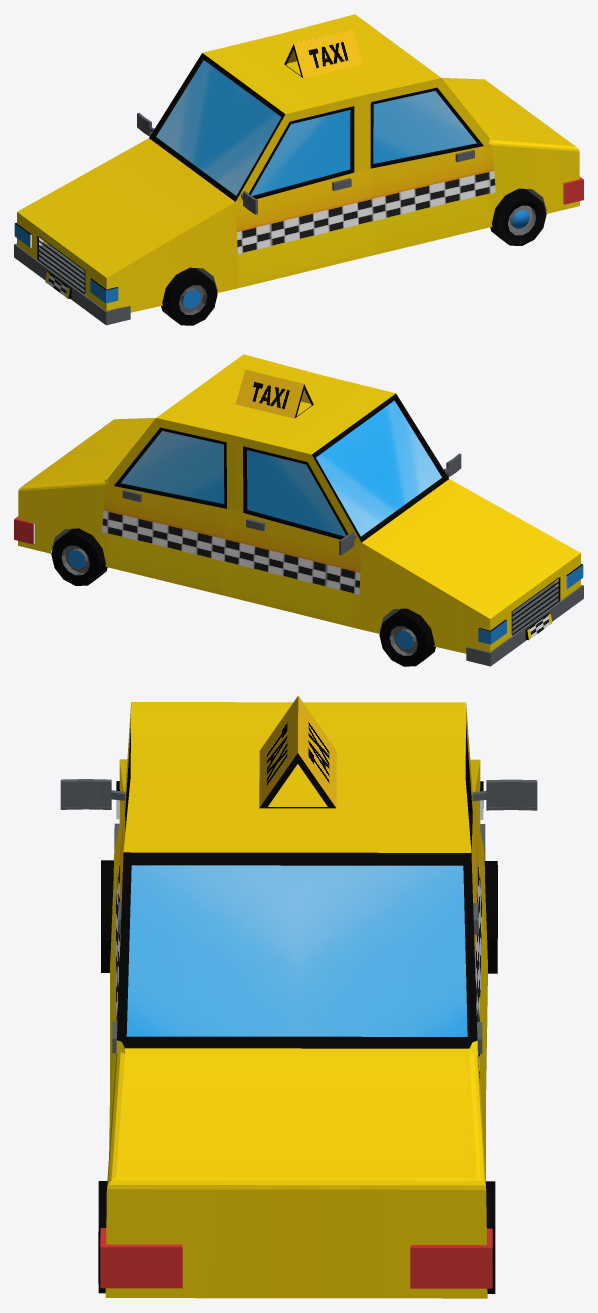
File: Car_Taxi.fbx
3 views of the same model, one above another, from view 1: azimuth 30°, elevation 25°; view 2: azimuth 150°, elevation 25°; view 3: azimuth 270°, elevation 25° (orthographic). The views are drawn at different scales.
Parts seen in each view (by area): view 1: Car_Taxi, Car_Taxi_Door_B_L, Car_Taxi_Door_F_L, Rare Trunk, Taxi Plate, Wheel_F_L, Wheel_B_L; view 2: Car_Taxi, Car_Taxi_Door_B_R, Car_Taxi_Door_F_R, Rare Trunk, Taxi Plate, Wheel_F_R, Wheel_B_R; view 3: Car_Taxi, Rare Trunk, Taxi Plate, Car_Taxi_Door_F_R, Car_Taxi_Door_F_L, Wheel_F_R, Wheel_F_L, Wheel_B_R.
Part boxes in pixels (box(x1,y1,x2,y2)): Car_Taxi: box(14, 14, 583, 325); Car_Taxi_Door_B_L: box(370, 87, 489, 250); Car_Taxi_Door_F_L: box(243, 106, 359, 281); Rare Trunk: box(442, 78, 571, 145); Taxi Plate: box(284, 29, 362, 78); Wheel_F_L: box(161, 267, 217, 325); Wheel_B_L: box(490, 188, 546, 245); Car_Taxi: box(14, 354, 583, 666); Car_Taxi_Door_B_R: box(108, 427, 226, 590); Car_Taxi_Door_F_R: box(237, 446, 353, 622); Rare Trunk: box(27, 418, 154, 484); Taxi Plate: box(236, 369, 313, 418); Wheel_F_R: box(379, 608, 435, 666); Wheel_B_R: box(51, 528, 107, 585); Car_Taxi: box(60, 702, 537, 1298); Rare Trunk: box(120, 1055, 472, 1175); Taxi Plate: box(259, 695, 336, 808); Car_Taxi_Door_F_R: box(465, 725, 487, 1073); Car_Taxi_Door_F_L: box(110, 728, 130, 1073); Wheel_F_R: box(484, 861, 497, 973); Wheel_F_L: box(101, 860, 113, 972); Wheel_B_R: box(485, 1181, 495, 1293).
Bounding box in the file's own units: 1049 × 439 × 453.
